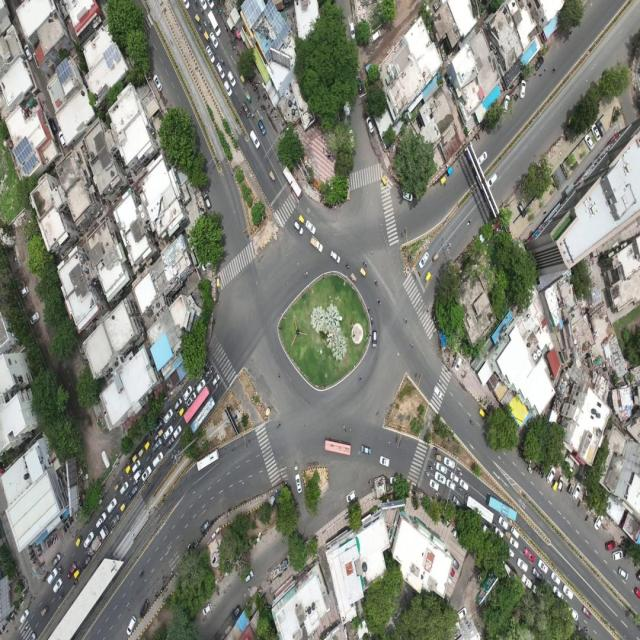3W: (430, 246, 441, 263), (39, 604, 50, 620), (476, 405, 486, 422), (72, 563, 82, 579), (74, 532, 84, 548), (348, 270, 358, 286), (430, 450, 443, 462), (238, 71, 247, 88), (424, 269, 433, 284), (445, 164, 455, 177), (114, 479, 121, 495), (359, 266, 367, 280), (137, 446, 146, 458), (502, 527, 511, 539), (269, 169, 276, 184), (131, 452, 139, 465), (144, 438, 152, 451), (178, 405, 186, 418), (194, 13, 202, 26), (203, 31, 211, 44), (298, 213, 306, 226), (438, 175, 447, 186), (552, 480, 559, 494), (120, 501, 128, 513), (126, 463, 134, 475), (381, 175, 388, 188), (158, 426, 166, 437)
Bus: (190, 393, 218, 438), (485, 486, 519, 523), (183, 383, 214, 422), (464, 491, 495, 526), (317, 435, 354, 461), (281, 160, 304, 201), (193, 447, 222, 474)
Cars: (484, 170, 500, 193), (201, 186, 214, 212), (152, 67, 164, 94), (139, 595, 151, 620), (346, 126, 357, 151), (126, 612, 136, 638), (366, 110, 376, 136), (562, 581, 575, 601), (367, 28, 383, 44), (249, 129, 261, 150), (94, 511, 107, 530), (551, 586, 564, 605), (205, 44, 216, 66), (417, 250, 429, 270), (593, 512, 605, 532), (550, 567, 562, 587), (537, 556, 549, 576), (476, 148, 489, 166), (519, 75, 528, 101), (582, 133, 595, 151), (617, 564, 630, 582), (434, 469, 447, 487), (571, 480, 582, 501), (46, 567, 58, 586), (198, 517, 210, 536), (595, 119, 607, 138), (524, 545, 536, 564), (516, 556, 529, 573), (66, 558, 76, 580), (83, 530, 94, 550), (110, 511, 121, 531), (152, 435, 163, 455), (231, 602, 242, 622), (516, 199, 527, 219), (546, 464, 556, 486), (51, 550, 63, 568), (502, 91, 511, 115), (498, 514, 510, 532), (603, 539, 618, 553), (531, 566, 545, 581), (442, 454, 456, 469), (215, 61, 226, 80), (401, 187, 414, 203), (610, 549, 626, 562), (127, 484, 139, 501), (451, 494, 463, 511), (20, 605, 30, 625), (590, 123, 600, 143), (172, 424, 183, 442), (534, 56, 545, 74), (432, 383, 443, 401), (304, 219, 316, 235), (581, 604, 593, 620), (436, 460, 448, 476), (186, 391, 196, 410), (209, 31, 219, 50), (226, 69, 236, 88), (257, 118, 267, 137), (106, 497, 117, 514), (142, 466, 153, 483), (202, 600, 213, 617), (345, 489, 357, 504), (348, 21, 357, 41), (163, 424, 174, 440), (295, 473, 303, 495), (293, 220, 304, 236), (429, 478, 440, 494), (164, 406, 173, 425), (152, 452, 164, 466), (330, 249, 341, 264), (459, 477, 470, 492), (446, 478, 457, 493), (224, 79, 233, 97), (242, 100, 251, 118), (82, 554, 92, 570), (196, 378, 206, 394), (568, 608, 578, 624), (510, 524, 520, 540), (378, 456, 391, 468), (360, 443, 372, 456), (371, 328, 378, 350), (174, 395, 183, 412), (557, 474, 565, 493), (53, 578, 63, 593), (120, 480, 130, 495), (357, 75, 364, 96), (154, 416, 162, 434), (495, 526, 504, 542), (244, 568, 254, 582), (449, 470, 459, 484), (184, 384, 192, 401), (132, 459, 141, 474), (212, 372, 221, 387), (509, 537, 519, 550), (198, 0, 208, 11), (166, 436, 174, 449), (182, 0, 192, 10), (207, 0, 216, 10)
LCV: (206, 9, 222, 38), (309, 235, 326, 256), (519, 573, 533, 589), (132, 467, 144, 483), (245, 88, 252, 106)
M2W: (437, 374, 444, 387), (28, 553, 38, 562), (200, 3, 206, 18), (58, 589, 65, 601), (375, 296, 382, 308), (466, 216, 473, 228), (198, 23, 204, 36), (362, 258, 368, 270), (402, 314, 408, 326), (220, 57, 227, 67), (344, 260, 351, 270), (432, 443, 439, 453), (552, 64, 558, 75), (577, 495, 582, 508), (468, 419, 475, 428), (582, 624, 589, 633), (457, 468, 464, 477), (120, 471, 126, 481), (202, 18, 208, 28), (207, 20, 213, 30), (473, 134, 479, 144), (187, 542, 192, 553), (369, 316, 374, 327), (238, 108, 244, 117), (446, 239, 452, 248), (428, 463, 434, 472), (586, 512, 590, 525), (144, 436, 149, 446), (159, 410, 164, 420), (374, 278, 379, 288), (368, 477, 373, 487), (138, 571, 145, 578), (433, 490, 440, 497), (73, 578, 79, 586), (128, 470, 134, 478), (142, 480, 148, 488), (162, 440, 168, 448), (273, 114, 279, 122), (367, 304, 371, 316), (430, 459, 436, 467), (266, 102, 271, 111), (515, 94, 520, 103), (409, 340, 414, 349), (357, 374, 362, 383), (49, 536, 53, 547), (133, 479, 139, 486), (248, 76, 254, 83), (457, 485, 463, 492), (424, 470, 430, 477), (24, 624, 29, 632), (46, 540, 51, 548), (69, 518, 74, 526), (226, 507, 234, 512), (251, 110, 255, 120), (269, 108, 274, 116), (58, 563, 62, 572), (63, 526, 67, 535), (138, 475, 142, 484), (127, 456, 131, 465), (278, 370, 281, 382), (252, 86, 258, 92), (260, 103, 264, 112), (544, 64, 548, 73), (518, 448, 522, 457), (33, 558, 38, 565), (154, 434, 159, 441), (256, 79, 261, 86), (60, 568, 64, 576), (66, 522, 70, 530), (215, 382, 219, 390), (194, 0, 198, 8), (250, 80, 254, 88), (55, 532, 58, 542), (204, 372, 210, 377), (522, 452, 525, 462), (529, 458, 532, 468), (538, 466, 541, 476), (176, 410, 180, 417), (208, 359, 212, 366), (257, 95, 261, 102), (533, 464, 537, 471), (130, 476, 135, 481), (195, 381, 201, 385), (211, 373, 214, 381), (192, 386, 195, 393), (262, 92, 265, 99), (172, 417, 176, 422), (209, 369, 214, 373), (263, 104, 265, 114), (206, 378, 209, 382)
Truck: (85, 525, 109, 564)
